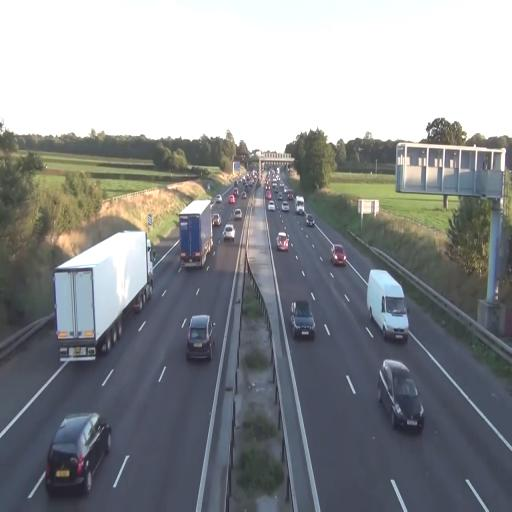vehicle: (52, 228, 154, 360), (44, 412, 112, 496), (378, 358, 424, 433), (367, 270, 409, 342), (178, 197, 214, 272), (178, 198, 214, 270), (184, 314, 214, 363), (291, 300, 315, 340), (330, 244, 346, 268), (276, 230, 290, 252), (222, 224, 236, 242)
